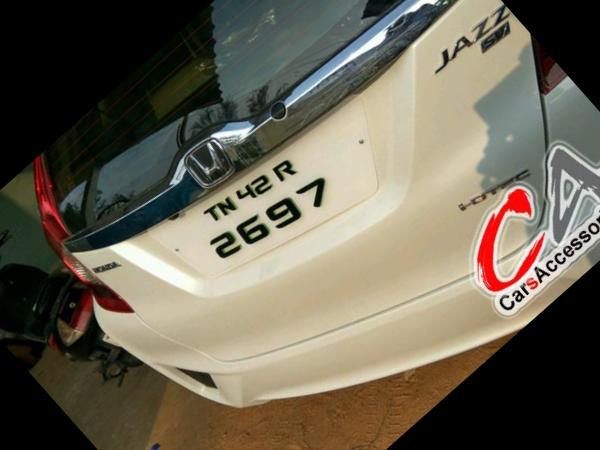plate: (123, 55, 415, 335)
